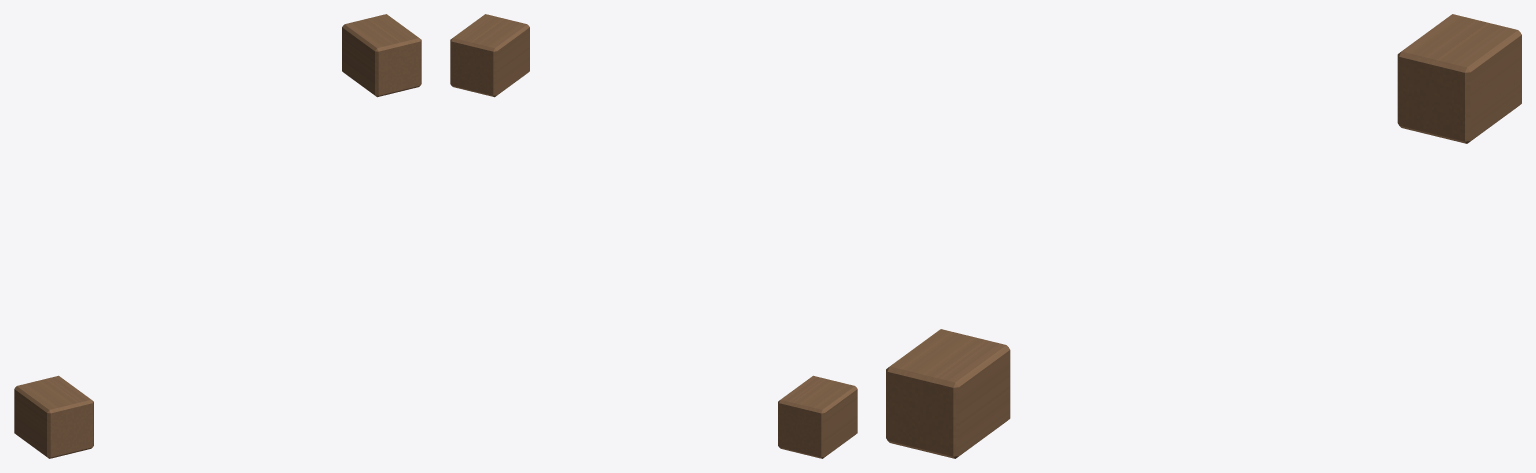
File: tile-4.glb
3 views of the same model, side by side, from view 1: azimuth 30°, elevation 25°; view 2: azimuth 150°, elevation 25°; view 3: azimuth 330°, elevation 25° (orthographic). The views are drawn at different scales.
Size of the model in its own units: 6.4 by 5.4 by 1.05.
1 material, 1 textured.
